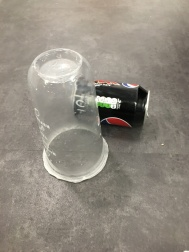can_black: (69, 67, 156, 136)
